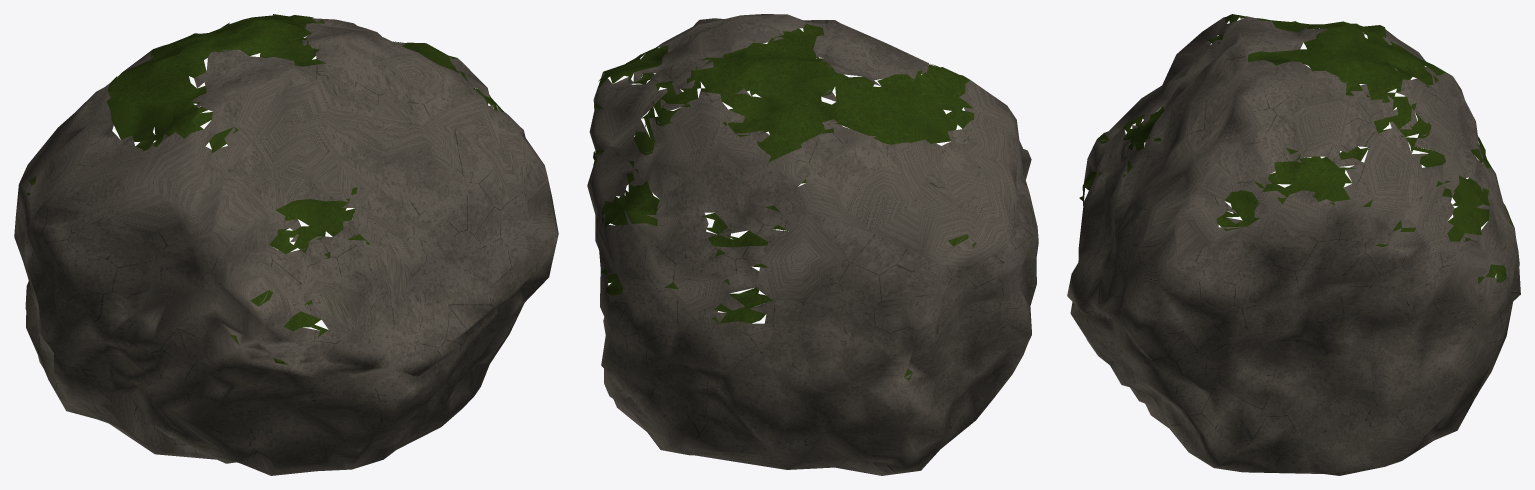
The model's file is rock_boulder.glb.
3 renders of one model, left to right at view 1: azimuth 30°, elevation 25°; view 2: azimuth 150°, elevation 25°; view 3: azimuth 270°, elevation 25°, orthographic. The views are drawn at different scales.
Parts seen in each view (by area): view 1: rock_boulder_rock, rock_boulder_moss; view 2: rock_boulder_rock, rock_boulder_moss; view 3: rock_boulder_rock, rock_boulder_moss.
Boxes of the visible parts, x1,y1,x2,y2 form: rock_boulder_rock: (14, 17, 558, 475); rock_boulder_moss: (26, 14, 504, 364); rock_boulder_rock: (587, 14, 1038, 475); rock_boulder_moss: (593, 23, 976, 380); rock_boulder_rock: (1067, 16, 1520, 475); rock_boulder_moss: (1079, 14, 1513, 284).
Bounding box in the file's own units: 1.33 × 1.11 × 1.23.
2 materials, 2 textured.
